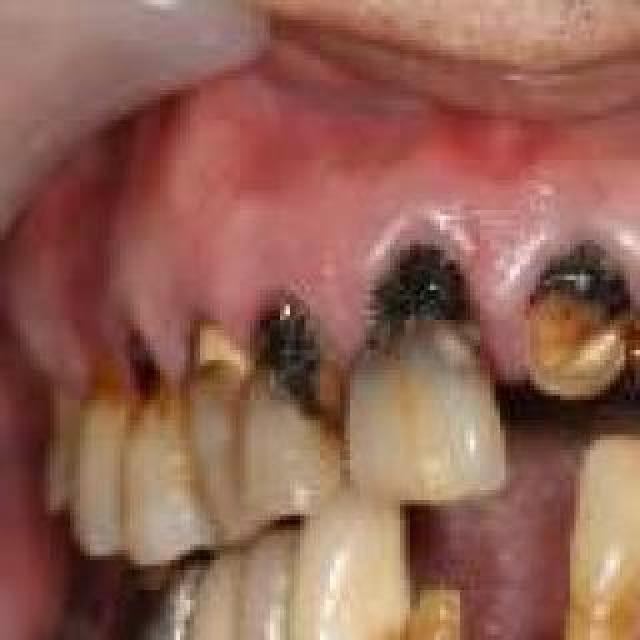calculus: (153, 308, 281, 420)
cavities: (340, 242, 490, 452), (251, 282, 351, 462), (226, 624, 300, 640)
maligned: (550, 460, 640, 640)
missing: (458, 478, 556, 640)
spacing: (285, 387, 395, 513)
stains: (45, 330, 151, 450), (111, 374, 203, 472)
